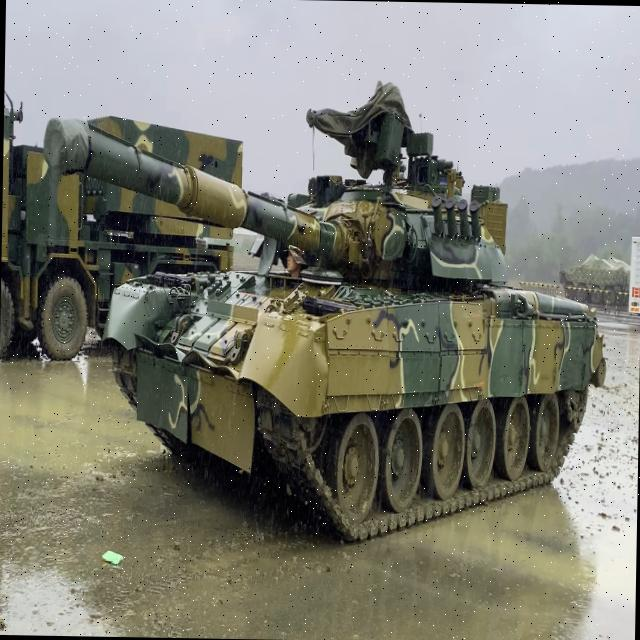north tank: (27, 70, 609, 564)
